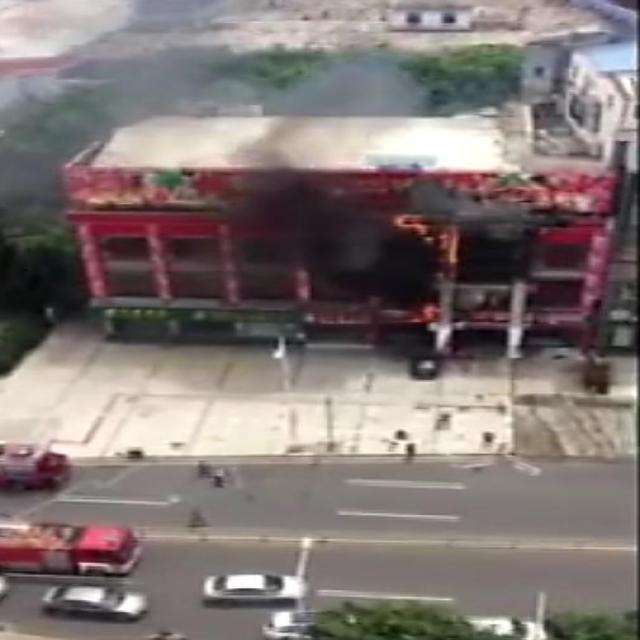Smoke: (228, 54, 440, 306), (0, 0, 227, 201), (405, 182, 571, 256)
